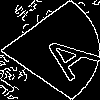A: (25, 25, 100, 82)
